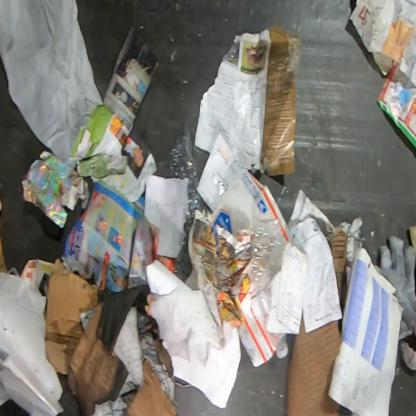cardboard: (60, 180, 154, 294), (66, 301, 131, 415), (44, 258, 98, 375), (286, 313, 342, 416), (21, 150, 89, 229), (123, 358, 178, 415), (330, 226, 350, 306), (0, 224, 10, 274), (0, 196, 4, 212)
soft_plastic: (157, 132, 213, 284), (373, 235, 416, 341), (249, 216, 288, 322)
